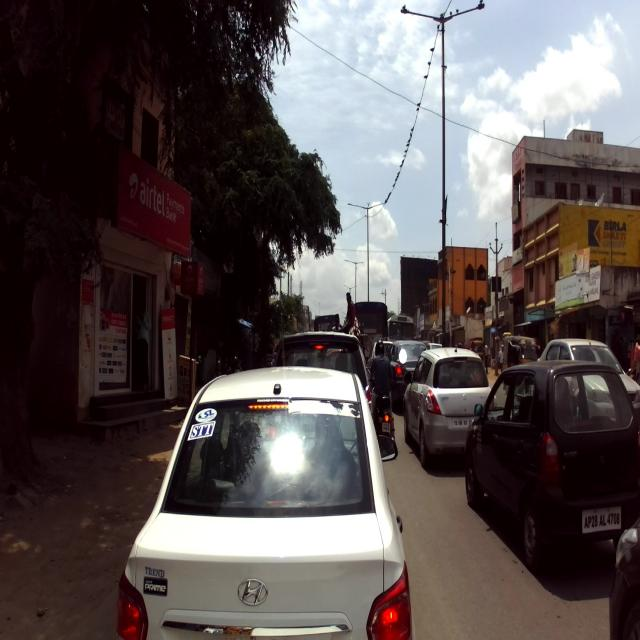Car_Hyundai: (115, 364, 413, 640)
Car_Maruti-Suzuki: (466, 360, 638, 570), (401, 344, 491, 470)
Car_Toyota: (269, 330, 374, 430)
